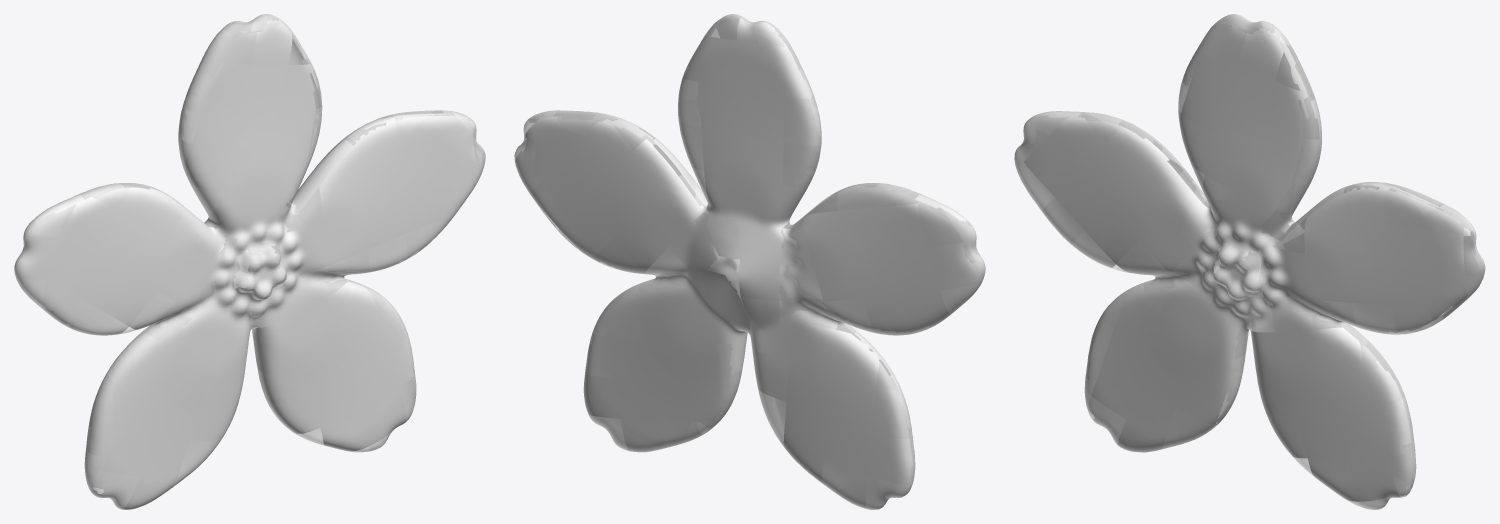
Rendered from flower-transformed.glb.
3 renders of one model, left to right at view 1: azimuth 30°, elevation 25°; view 2: azimuth 150°, elevation 25°; view 3: azimuth 330°, elevation 25°, orthographic.
Parts seen in each view (by area): view 1: falling petals; view 2: falling petals; view 3: falling petals.
Part boxes in pixels (box(x1,y1,x2,y2)): falling petals: box(14, 14, 485, 509); falling petals: box(514, 14, 985, 509); falling petals: box(1014, 14, 1485, 509).
Bounding box in the file's own units: 476 × 448 × 62.88.
Materials: 1 (1 with a texture image).
